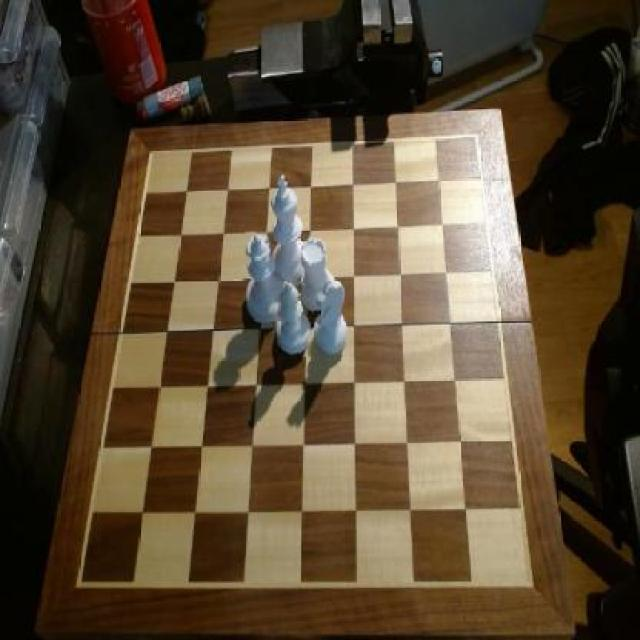black-rook: (275, 282, 314, 358)
white-bishop: (270, 174, 308, 283)
white-king: (315, 280, 350, 356)
white-pawn: (245, 231, 288, 323)
white-queen: (298, 235, 338, 313)
